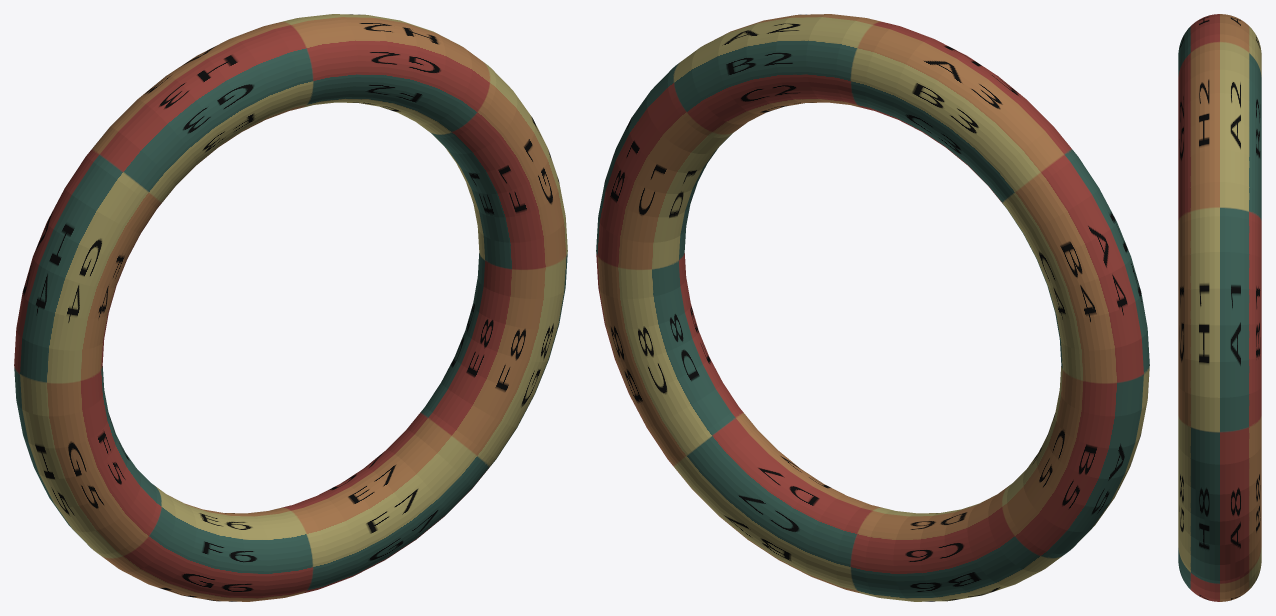
The model's file is texture_torus_R25_r9.glb.
3 views of the same model, side by side, from view 1: azimuth 30°, elevation 25°; view 2: azimuth 150°, elevation 25°; view 3: azimuth 270°, elevation 25° (orthographic). The views are drawn at different scales.
Parts seen in each view (by area): view 1: world; view 2: world; view 3: world.
Boxes of the visible parts, x1,y1,x2,y2 form: world: [14, 14, 567, 601]; world: [596, 14, 1149, 601]; world: [1178, 14, 1261, 601].
Bounding box in the file's own units: 31.07 × 31.01 × 4.39.
Materials: 1 (1 with a texture image).
